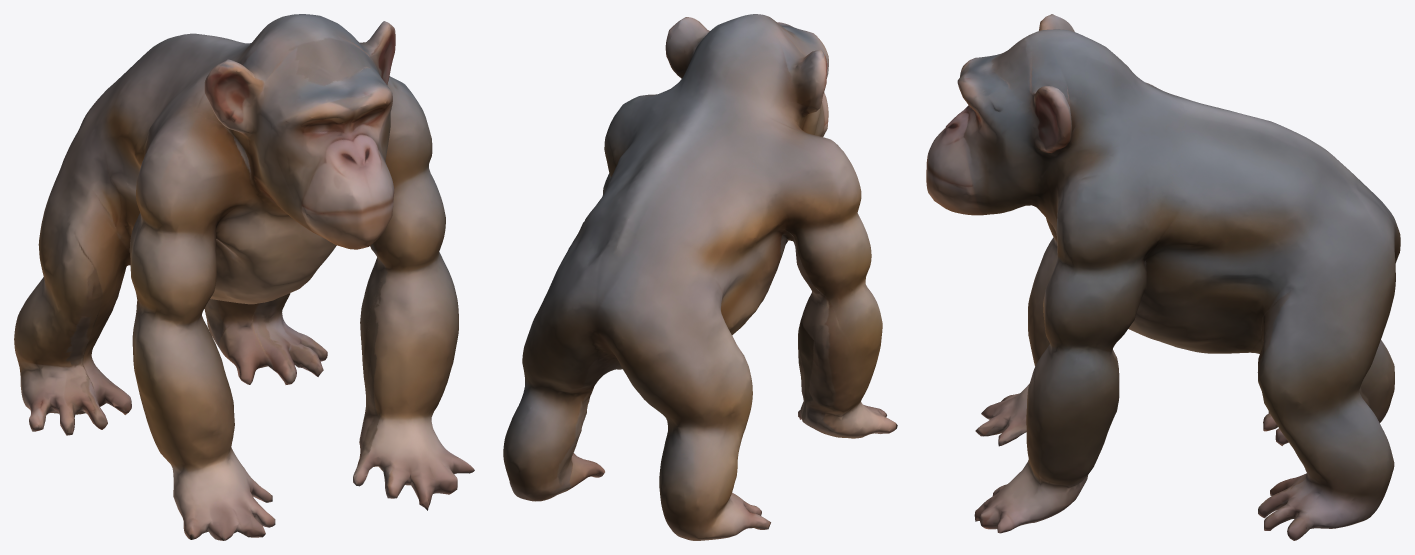
File: Ape.glb
3 renders of one model, left to right at view 1: azimuth 30°, elevation 25°; view 2: azimuth 150°, elevation 25°; view 3: azimuth 270°, elevation 25°, orthographic. The views are drawn at different scales.
Size of the model in its own units: 0.8094 by 1.2 by 1.14.
1 material, 1 textured.
